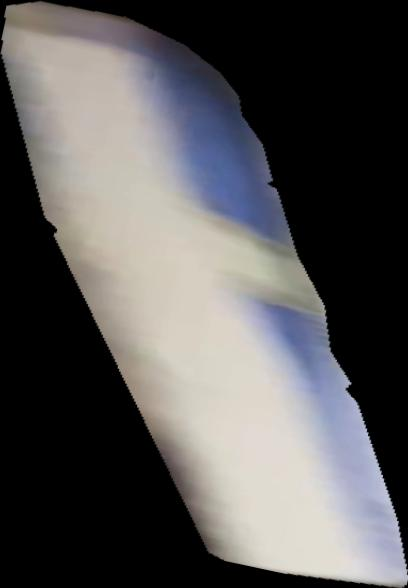backward: (1, 1, 408, 588)
